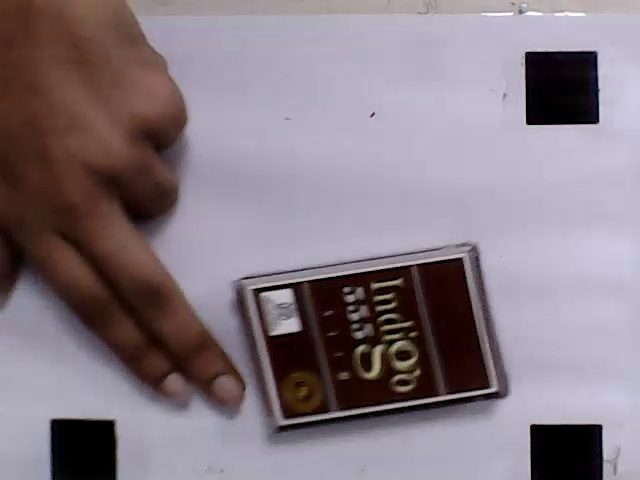BEX: (246, 256, 496, 421)
